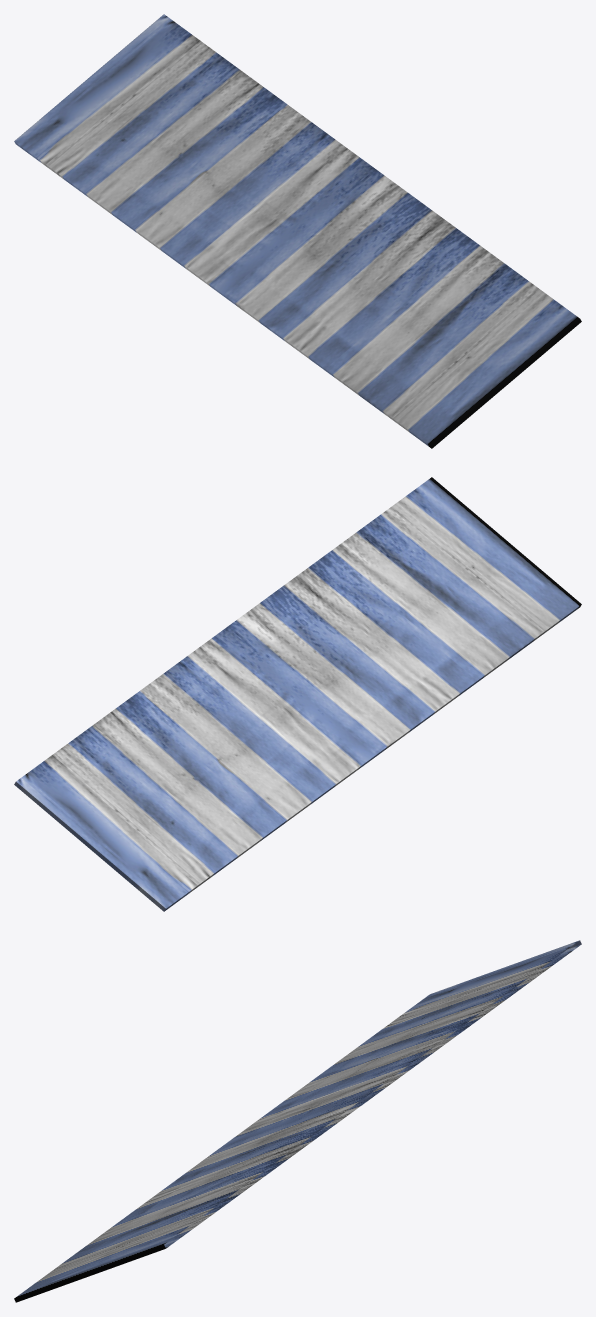
The model's file is fabric_09.fbx.
3 renders of one model, top to bottom at view 1: azimuth 30°, elevation 25°; view 2: azimuth 150°, elevation 25°; view 3: azimuth 330°, elevation 25°, orthographic.
Visible parts, largest first — view 1: fabric_09; view 2: fabric_09; view 3: fabric_09.
Boxes of the visible parts, x1,y1,x2,y2 form: fabric_09: (14,14,581,448); fabric_09: (14,477,581,911); fabric_09: (14,940,581,1302).
Bounding box in the file's own units: 1.47 × 0.8701 × 6.96.
